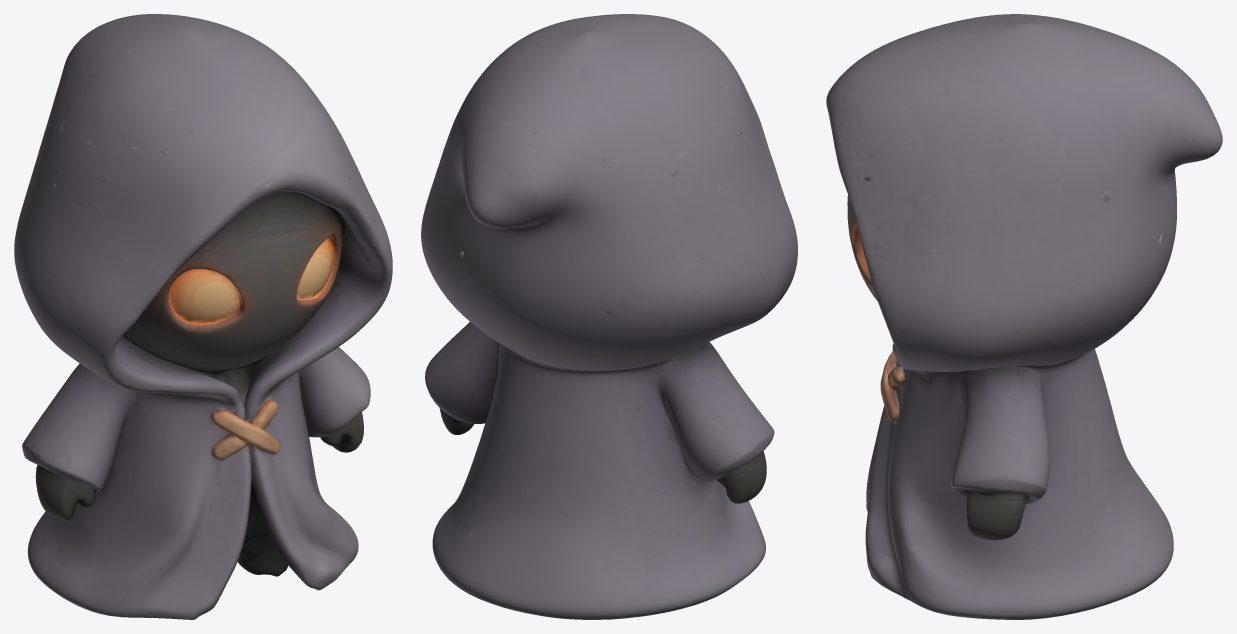
The model's file is stage_4.glb.
3 views of the same model, side by side, from view 1: azimuth 30°, elevation 25°; view 2: azimuth 150°, elevation 25°; view 3: azimuth 270°, elevation 25° (orthographic).
Parts seen in each view (by area): view 1: convert; view 2: convert; view 3: convert.
Part boxes in pixels (x1,y1,x2,y2): convert: (14,14,392,619); convert: (421,14,797,619); convert: (826,14,1222,619).
Size of the model in its own units: 0.6861 by 1.04 by 0.7059.
Materials: 1 (1 with a texture image).
